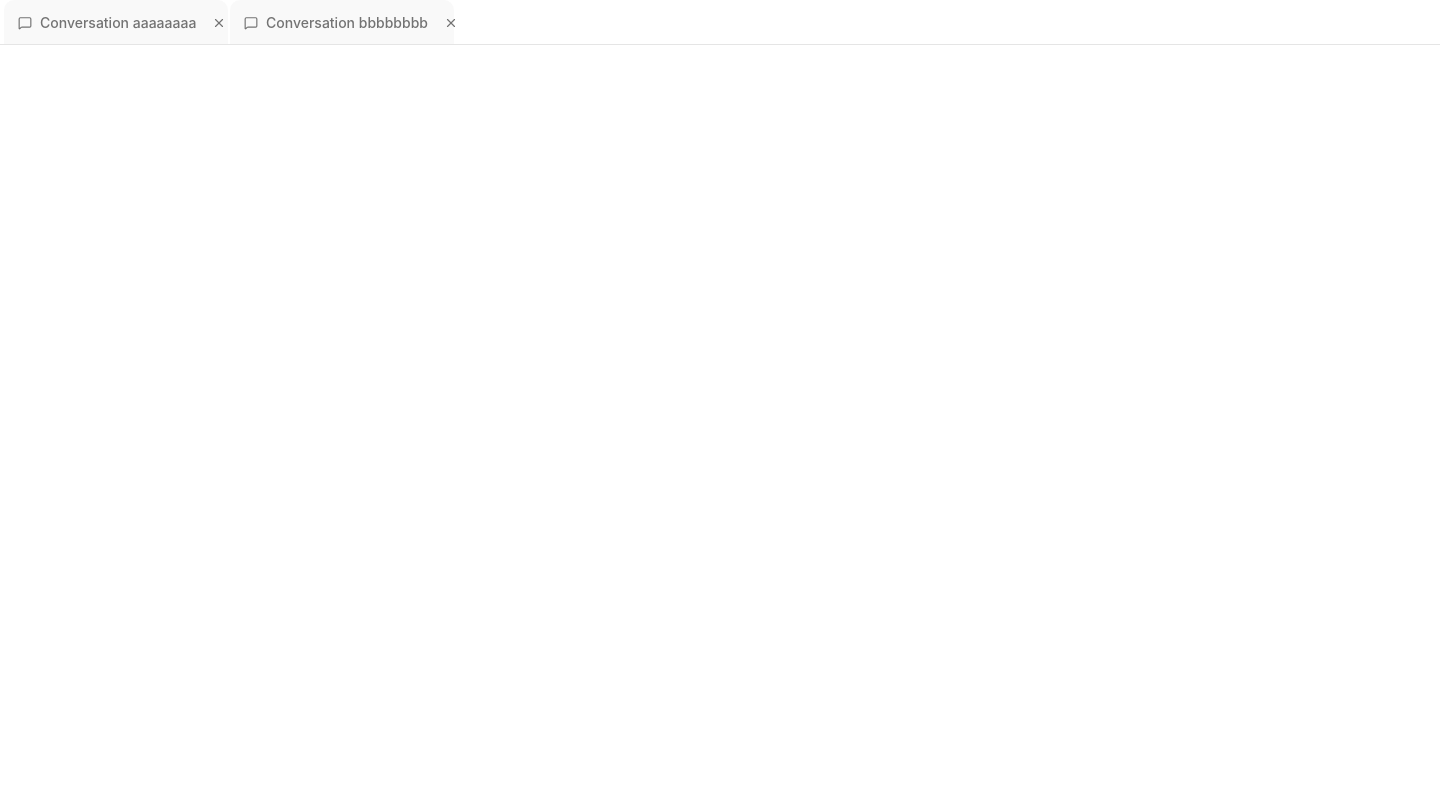
Scenario: ConversationList › does not archive on a single click — it opens a confirm dialog first
Click the button named "Archive conversation aaaaaaaa" at (219, 23), box top-left (201, 1), bottom-right (237, 45)
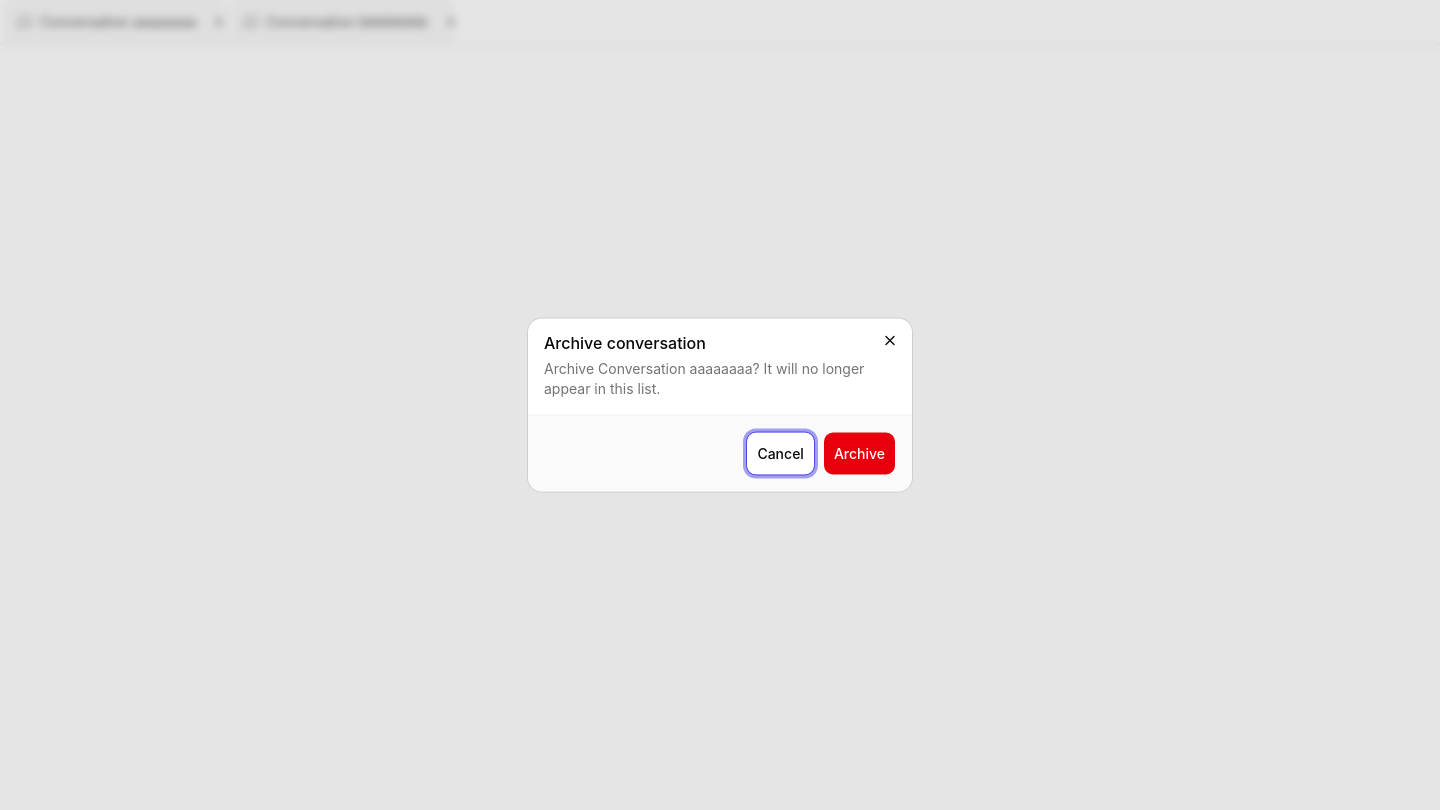
Check: the dialog "Archive conversation" is shown, box top-left (528, 318), bottom-right (912, 492)
